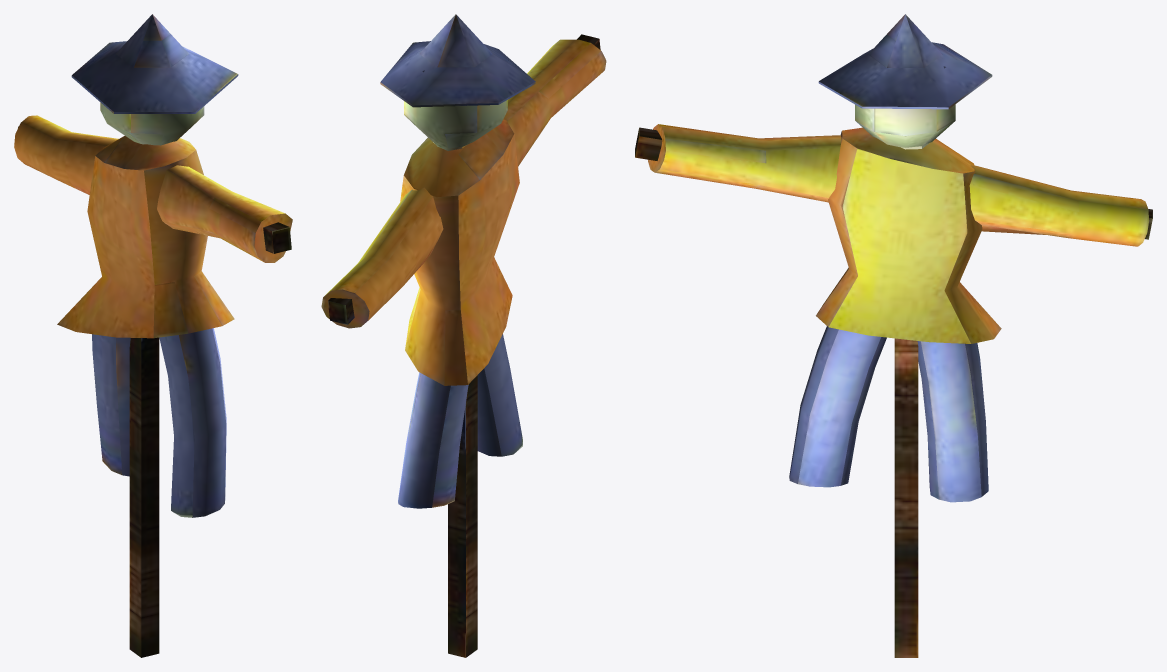
The model's file is StrawMan.fbx.
3 renders of one model, left to right at view 1: azimuth 30°, elevation 25°; view 2: azimuth 150°, elevation 25°; view 3: azimuth 270°, elevation 25°, orthographic.
Parts seen in each view (by area): view 1: Gom_Espantalho_00; view 2: Gom_Espantalho_00; view 3: Gom_Espantalho_00.
Part boxes in pixels (x1,y1,x2,y2): Gom_Espantalho_00: (14, 14, 292, 657); Gom_Espantalho_00: (321, 14, 606, 657); Gom_Espantalho_00: (635, 14, 1152, 657).
Size of the model in its own units: 0.6216 by 3 by 2.19.
